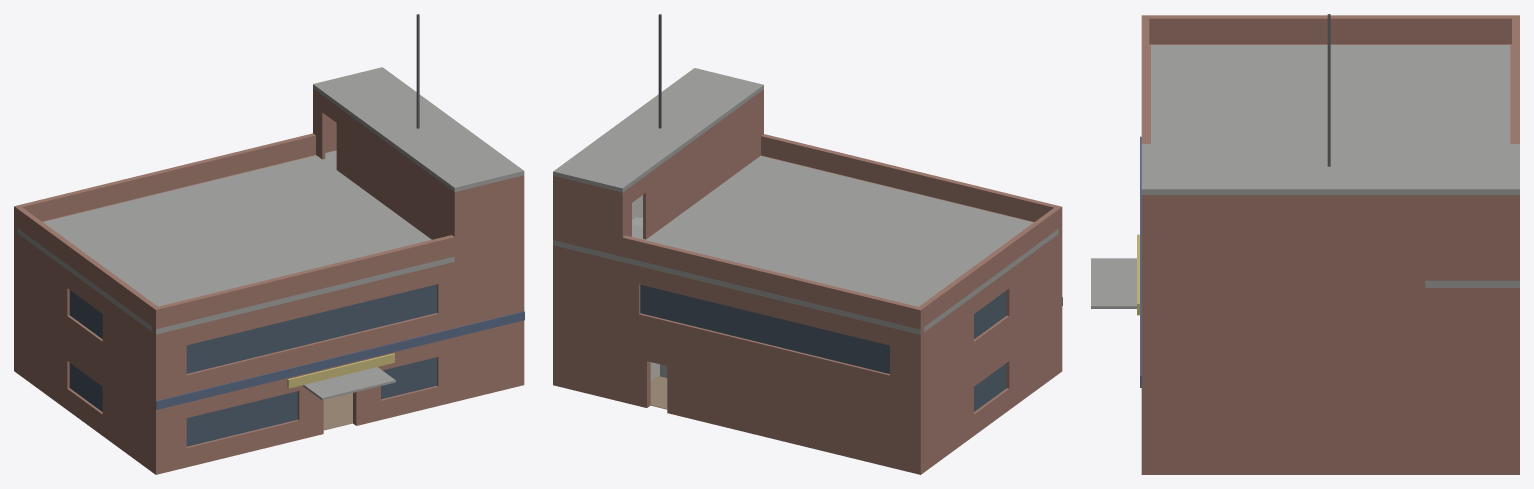
File: police-station.walls-v1.lod0.glb
3 renders of one model, left to right at view 1: azimuth 30°, elevation 25°; view 2: azimuth 150°, elevation 25°; view 3: azimuth 270°, elevation 25°, orthographic. The views are drawn at different scales.
Parts seen in each view (by area): view 1: police-station; view 2: police-station; view 3: police-station.
Part boxes in pixels (x1,y1,x2,y2): police-station: (14, 14, 524, 474); police-station: (553, 14, 1062, 474); police-station: (1091, 14, 1519, 474).
Size of the model in its own units: 18 by 15.3 by 13.6.
